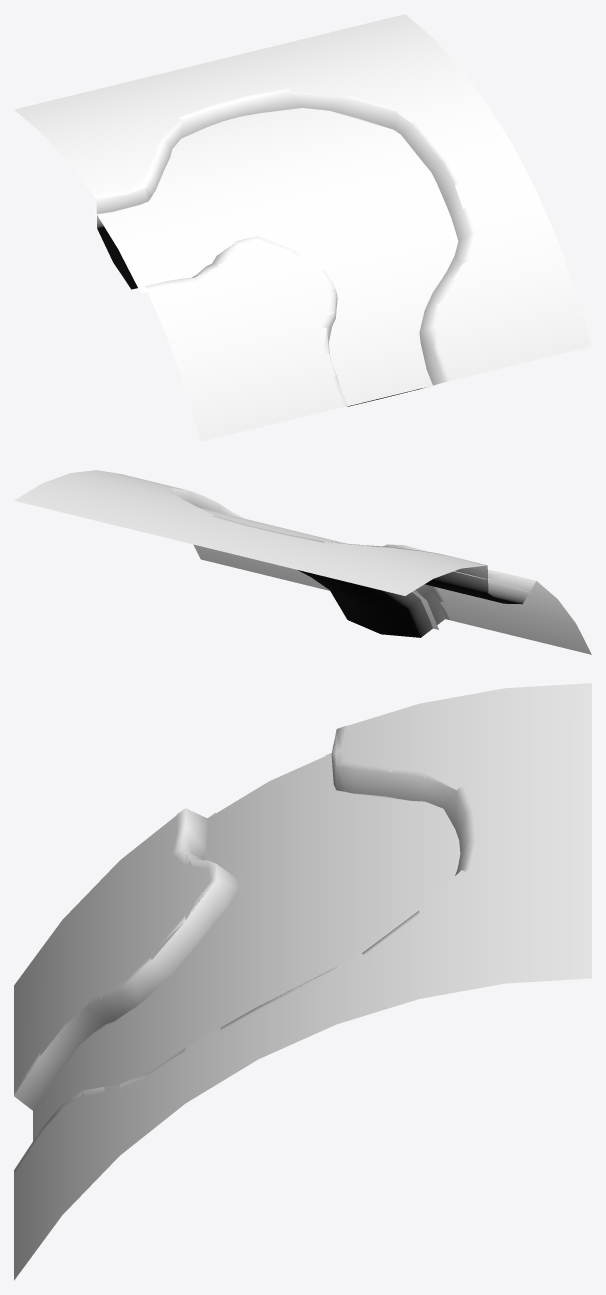
The model's file is grd_Res_P_1.dae.
The picture shows the model from 3 angles, top to bottom: view 1: azimuth 30°, elevation 25°; view 2: azimuth 150°, elevation 25°; view 3: azimuth 270°, elevation 25°; orthographic projection. The views are drawn at different scales.
Parts seen in each view (by area): view 1: grass_1_0, river_2_0, cliff_river_0_0, river_edge_3_0; view 2: grass_1_0, cliff_river_0_0, river_2_0; view 3: grass_1_0, river_2_0, cliff_river_0_0, river_edge_3_0.
Boxes of the visible parts, x1,y1,x2,y2 form: grass_1_0: [14, 14, 591, 441]; river_2_0: [94, 108, 457, 407]; cliff_river_0_0: [93, 88, 475, 407]; river_edge_3_0: [94, 108, 458, 407]; grass_1_0: [14, 470, 591, 654]; cliff_river_0_0: [167, 488, 538, 637]; river_2_0: [198, 507, 531, 629]; grass_1_0: [14, 683, 591, 1280]; river_2_0: [33, 754, 460, 1140]; cliff_river_0_0: [14, 725, 475, 1174]; river_edge_3_0: [33, 753, 459, 1114].
Size of the model in its own units: 512 by 264 by 423.
4 materials, 1 textured.
